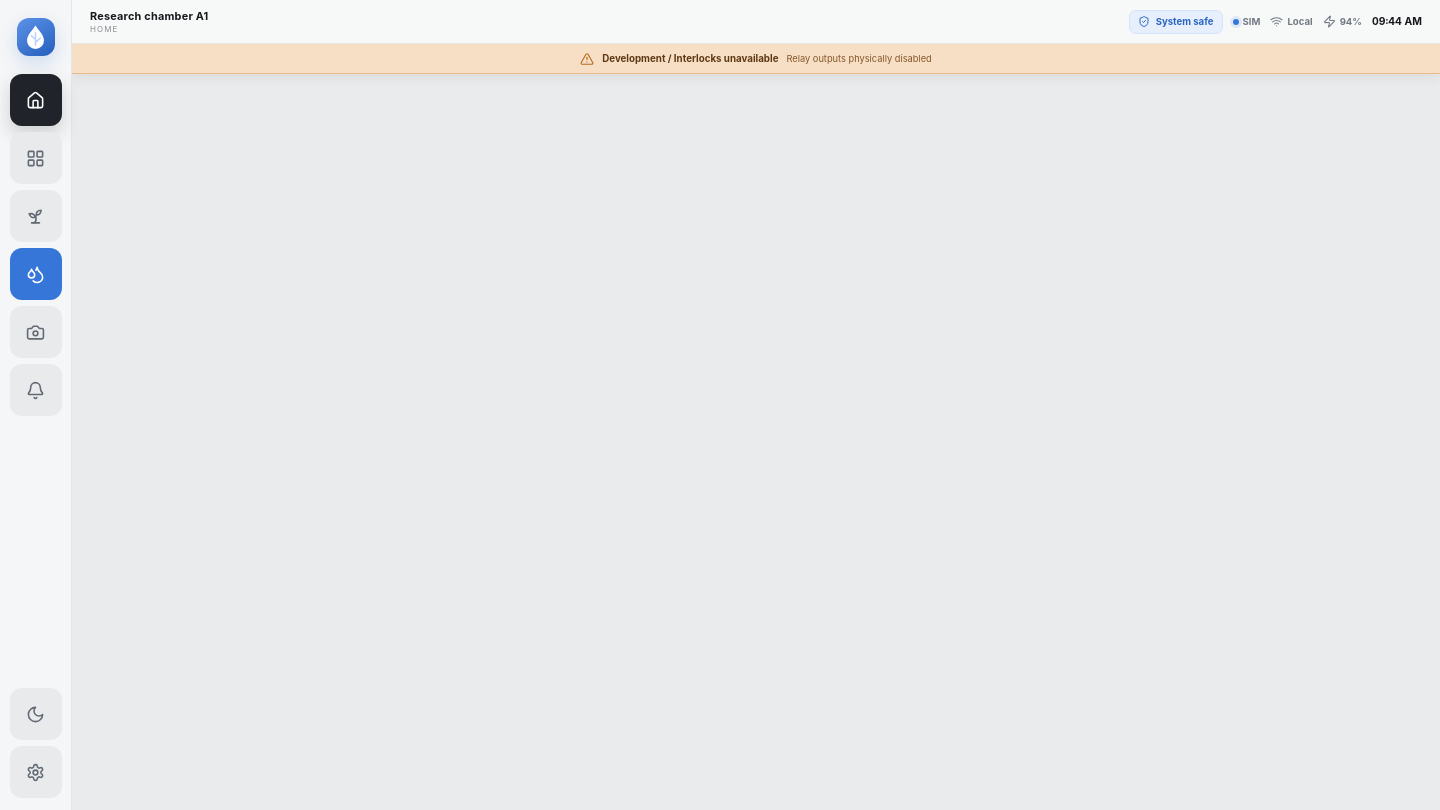
Test: AeroOS production shell › does not let the interface toggle bypass an uncommissioned relay output
This screenshot has width=1440, height=810.
Click the button named "Open mist controls". click: [36, 274]
box: [10,248,62,300]
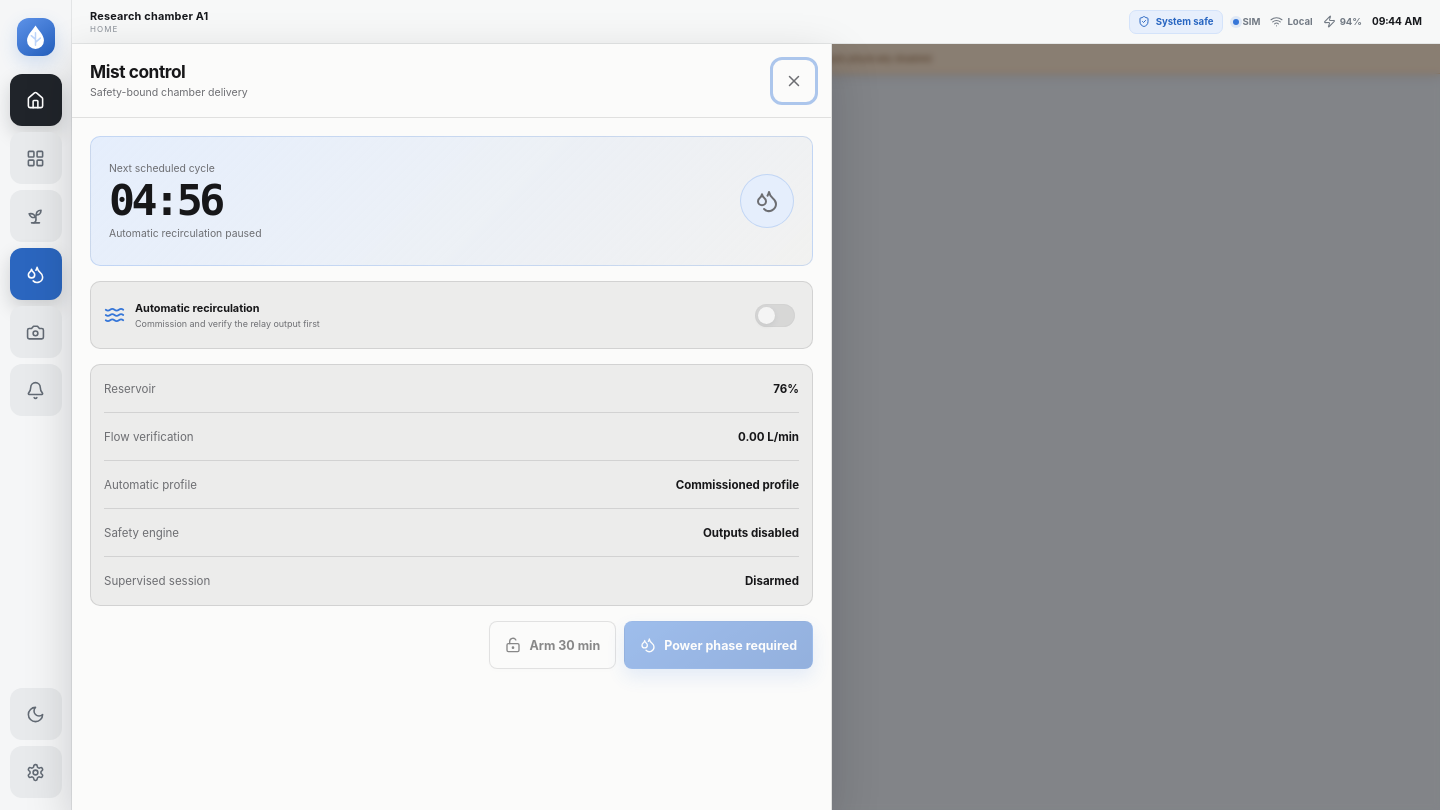
Expected: the switch named "Enable automatic recirculation" is disabled, [748,291,802,339]
Expected: the text "Commission and verify the relay output first" is shown, [135,318,320,329]
